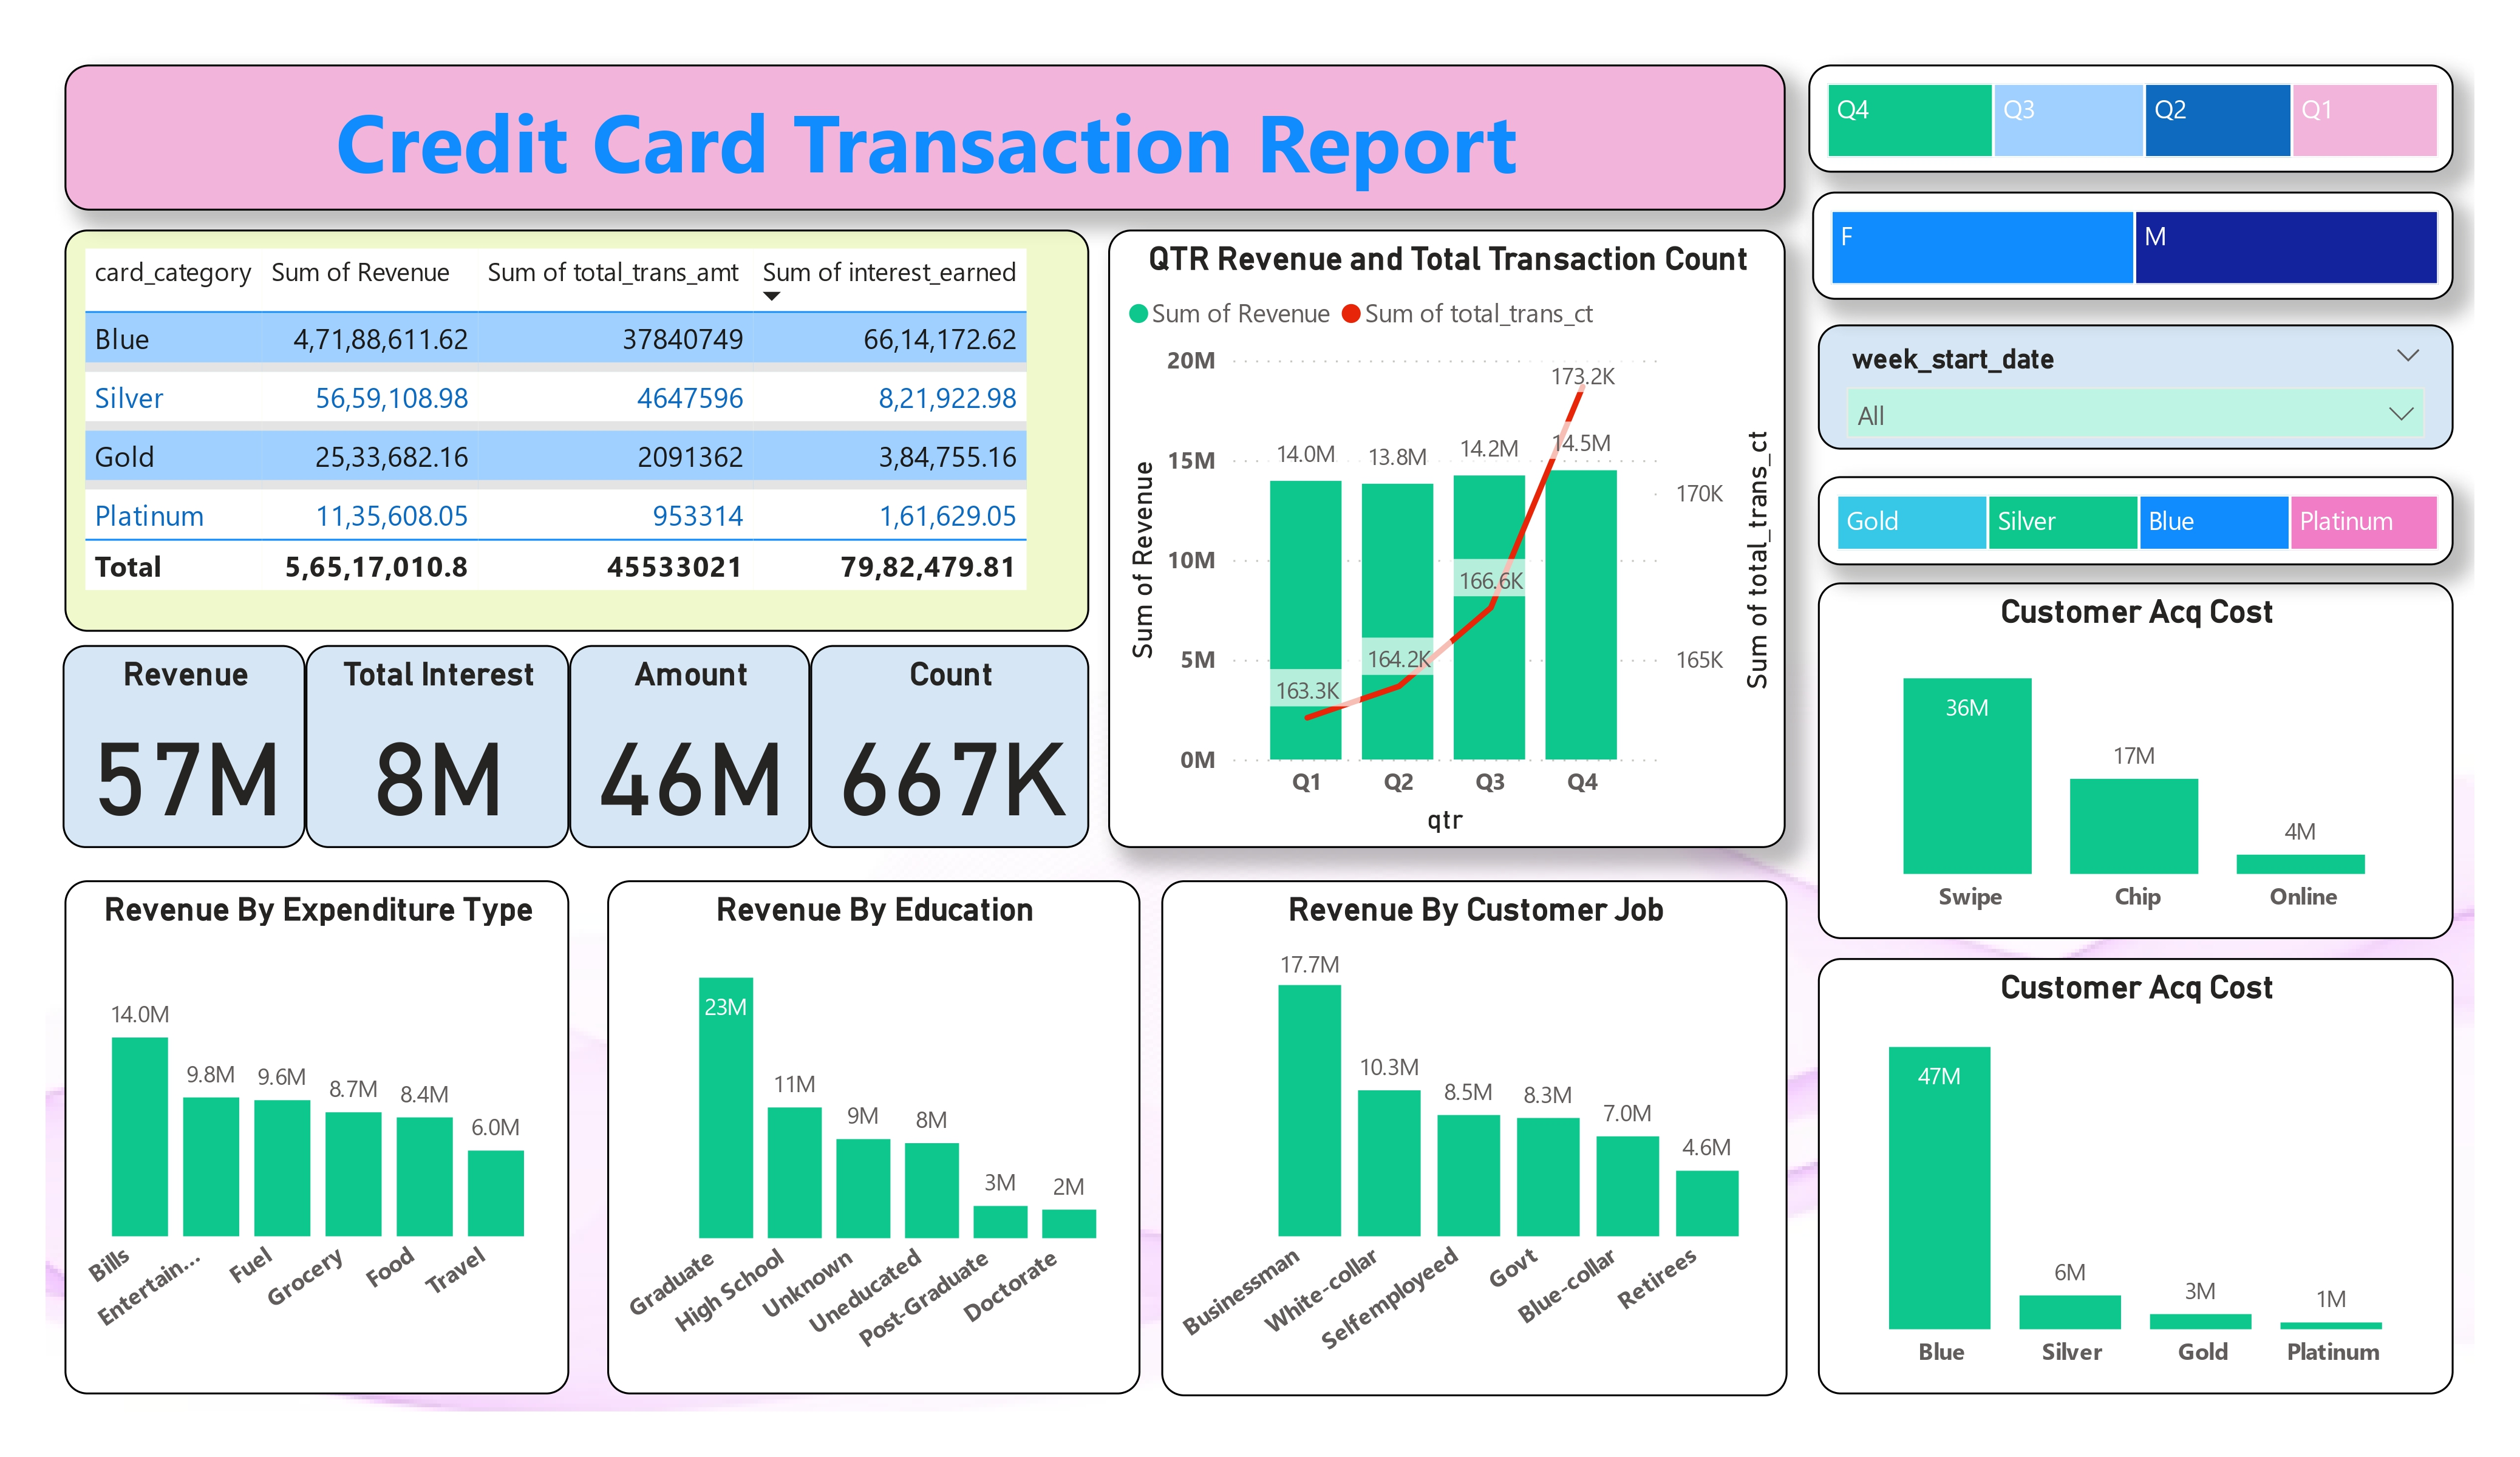

The dashboard page shown, as its layout file describes it:
{"tool":"powerbi","page":{"name":"CC Transation","canvas":[1280,720],"ordinal":1},"visuals":[{"type":"textbox","box":[10,10,907.1,77.1],"z":0},{"type":"lineStackedColumnComboChart","title":"QTR Revenue and Total Transaction Count","fields":{"Category":["public cc_detail.qtr"],"Y":["Sum(public cc_detail.Revenue)"],"Y2":["Sum(public cc_detail.total_trans_ct)"]},"box":[560,97.1,357.1,325.7],"z":1000},{"type":"columnChart","title":"Revenue By Expenditure Type","fields":{"Category":["public cc_detail.exp_type"],"Y":["Sum(public cc_detail.Revenue)"]},"box":[10,440,265.7,271.4],"z":2000},{"type":"columnChart","title":"Revenue By Education","fields":{"Category":["public cust_detail.education_level"],"Y":["Sum(public cc_detail.Revenue)"]},"box":[295.7,440,281.4,271.4],"z":3000},{"type":"columnChart","title":"Revenue By Customer Job","fields":{"Category":["public cust_detail.customer_job"],"Y":["Sum(public cc_detail.Revenue)"]},"box":[588,440,330,272],"z":4000},{"type":"columnChart","title":"Customer Acq Cost","fields":{"Category":["public cc_detail.card_category"],"Y":["Sum(public cc_detail.Revenue)"]},"box":[934.3,481.4,334.3,230],"z":5000},{"type":"tableEx","fields":{"Values":["public cc_detail.card_category","Sum(public cc_detail.Revenue)","Sum(public cc_detail.total_trans_amt)","Sum(public cc_detail.interest_earned)"]},"box":[10,97.1,540,211.4],"z":6000},{"type":"card","title":"Revenue","fields":{"Values":["Sum(public cc_detail.Revenue)"]},"box":[8.6,315.7,128.6,107.1],"z":7000},{"type":"card","title":"Total Interest","fields":{"Values":["Sum(public cc_detail.interest_earned)"]},"box":[137.1,315.7,138.6,107.1],"z":8000},{"type":"card","title":"Amount","fields":{"Values":["Sum(public cc_detail.total_trans_amt)"]},"box":[275.7,315.7,127.1,107.1],"z":9000},{"type":"card","title":"Count","fields":{"Values":["Sum(public cc_detail.total_trans_ct)"]},"box":[402.9,315.7,147.1,107.1],"z":10000},{"type":"columnChart","title":"Customer Acq Cost","fields":{"Category":["public cc_detail.use_chip"],"Y":["Sum(public cc_detail.Revenue)"]},"box":[934.3,282.9,334.3,188.6],"z":11000},{"type":"slicer","fields":{"Values":["public cc_detail.week_start_date"]},"box":[934.3,147.1,334.3,65.7],"z":12000},{"type":"treemap","fields":{"Group":["public cc_detail.qtr","public cust_detail.gender"],"Values":["Avg(public cc_detail.client_num)"]},"box":[928.6,10,340,57.1],"z":13000},{"type":"treemap","fields":{"Group":["public cc_detail.card_category"],"Values":["Avg(public cc_detail.client_num)"]},"box":[934.3,227.1,334.3,47.1],"z":14000},{"type":"treemap","fields":{"Group":["public cust_detail.gender"],"Values":["Avg(public cc_detail.client_num)"]},"box":[931.4,77.1,337.1,57.1],"z":15000}]}

Visuals, with their boxes in screenshot pixels (x1, y1, x2, y2):
textbox: <bbox>64, 64, 1786, 211</bbox>
"QTR Revenue and Total Transaction Count" lineStackedColumnComboChart: <bbox>1108, 229, 1786, 847</bbox>
"Revenue By Expenditure Type" columnChart: <bbox>64, 880, 569, 1395</bbox>
"Revenue By Education" columnChart: <bbox>607, 880, 1140, 1395</bbox>
"Revenue By Customer Job" columnChart: <bbox>1161, 880, 1788, 1396</bbox>
"Customer Acq Cost" columnChart: <bbox>1819, 959, 2453, 1395</bbox>
tableEx - public cc_detail.card_category x Sum(public cc_detail.Revenue): <bbox>64, 229, 1089, 631</bbox>
"Revenue" card: <bbox>62, 645, 306, 847</bbox>
"Total Interest" card: <bbox>305, 645, 569, 847</bbox>
"Amount" card: <bbox>569, 645, 810, 847</bbox>
"Count" card: <bbox>810, 645, 1089, 847</bbox>
"Customer Acq Cost" columnChart: <bbox>1819, 582, 2453, 940</bbox>
slicer - public cc_detail.week_start_date: <bbox>1819, 325, 2453, 449</bbox>
treemap - public cc_detail.qtr x public cust_detail.gender: <bbox>1808, 64, 2453, 173</bbox>
treemap - public cc_detail.card_category x Avg(public cc_detail.client_num): <bbox>1819, 477, 2453, 566</bbox>
treemap - public cust_detail.gender x Avg(public cc_detail.client_num): <bbox>1813, 192, 2453, 300</bbox>
